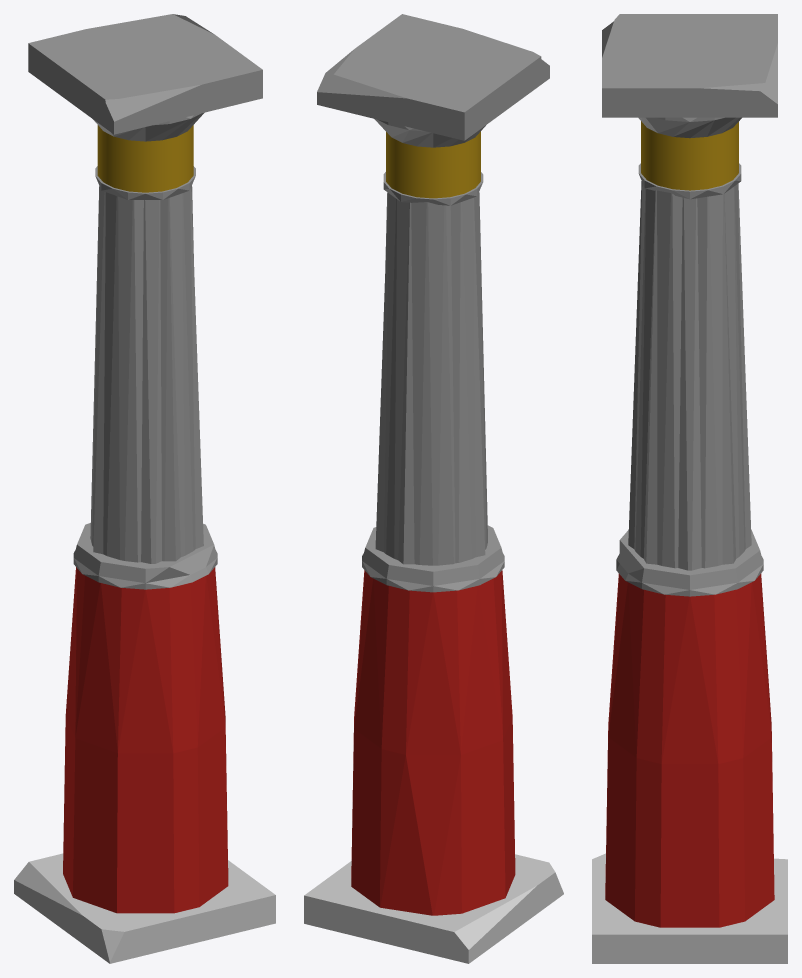
File: SM_column_greek_01.fbx
3 renders of one model, left to right at view 1: azimuth 30°, elevation 25°; view 2: azimuth 150°, elevation 25°; view 3: azimuth 270°, elevation 25°, orthographic. The views are drawn at different scales.
Parts seen in each view (by area): view 1: Object4135; view 2: Object4135; view 3: Object4135.
Boxes of the visible parts, left/top/right/bottom form: Object4135: left=14, top=14, right=275, bottom=963; Object4135: left=304, top=14, right=563, bottom=963; Object4135: left=592, top=14, right=787, bottom=963.
Size of the model in its own units: 31.61 by 155 by 31.61.
